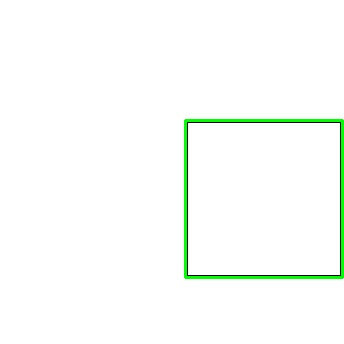line_segment: (184, 119, 344, 279)
